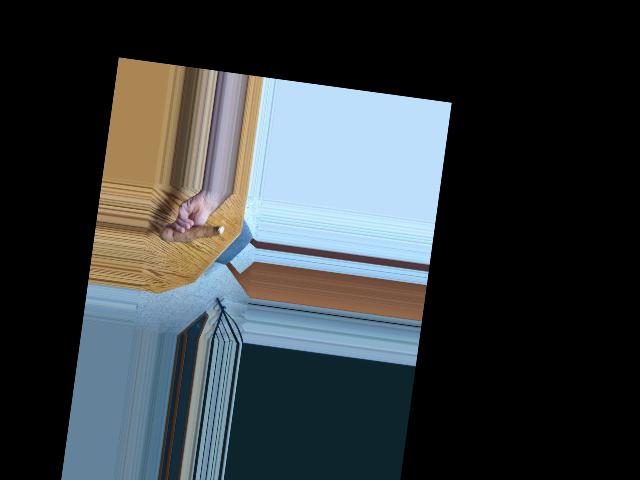sweet_potato: (161, 215, 222, 251)
